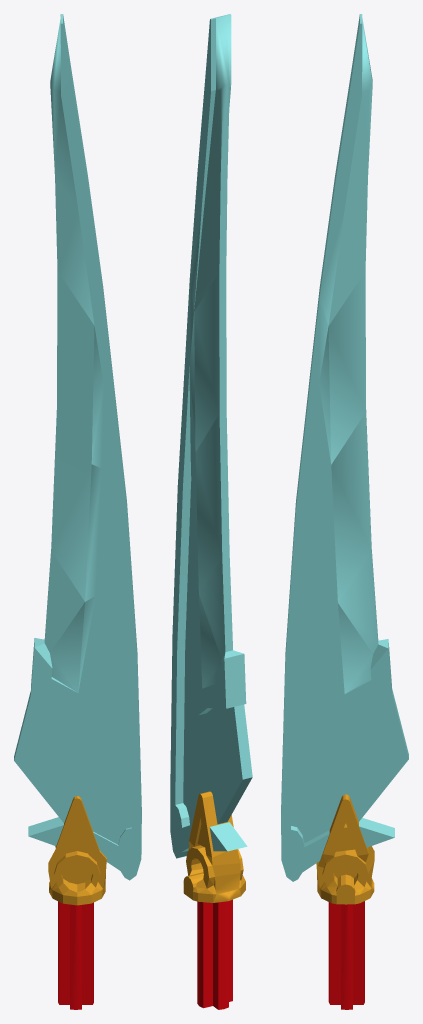
File: sword.fbx
The picture shows the model from 3 angles, left to right: view 1: azimuth 90°, elevation 25°; view 2: azimuth 210°, elevation 25°; view 3: azimuth 270°, elevation 25°; orthographic projection.
Visible parts, largest first — view 1: sword; view 2: sword; view 3: sword.
Boxes of the visible parts, x1=… form: sword: x1=14, y1=14, x2=141, y2=1009; sword: x1=170, y1=14, x2=252, y2=1009; sword: x1=281, y1=14, x2=408, y2=1009.
Size of the model in its own units: 320 by 37.74 by 18.28.
